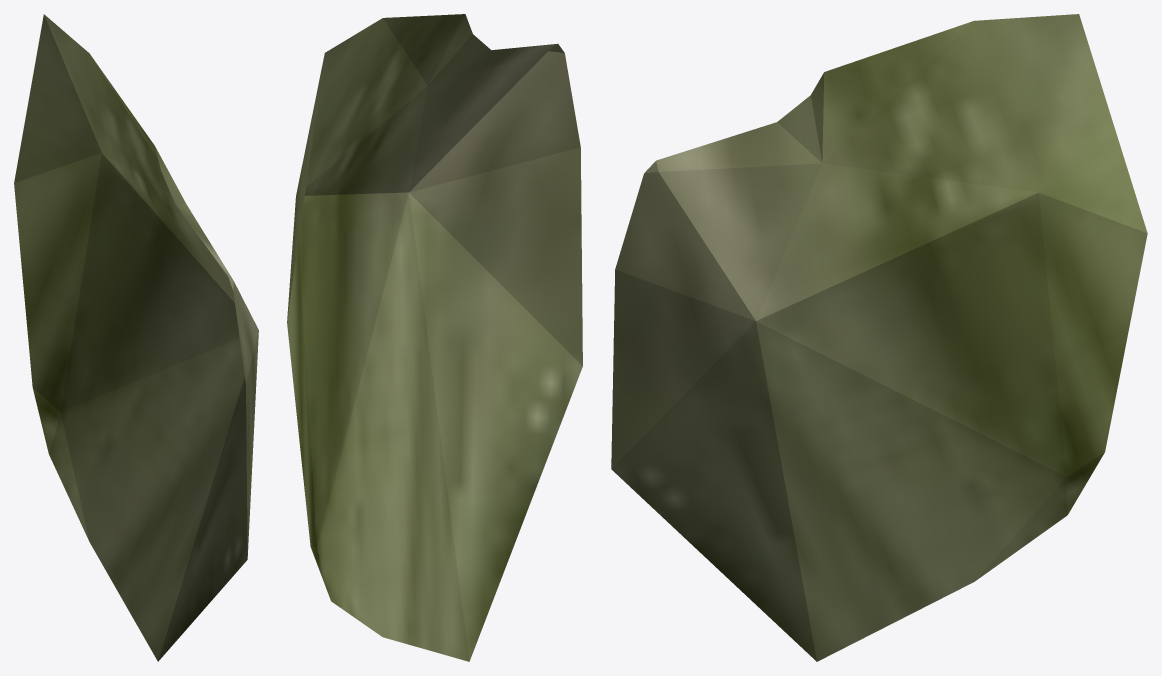
3 views of the same model, side by side, from view 1: azimuth 30°, elevation 25°; view 2: azimuth 150°, elevation 25°; view 3: azimuth 270°, elevation 25° (orthographic). The views are drawn at different scales.
Size of the model in its own units: 0.0707 by 0.5131 by 0.3849.
1 material, 1 textured.
